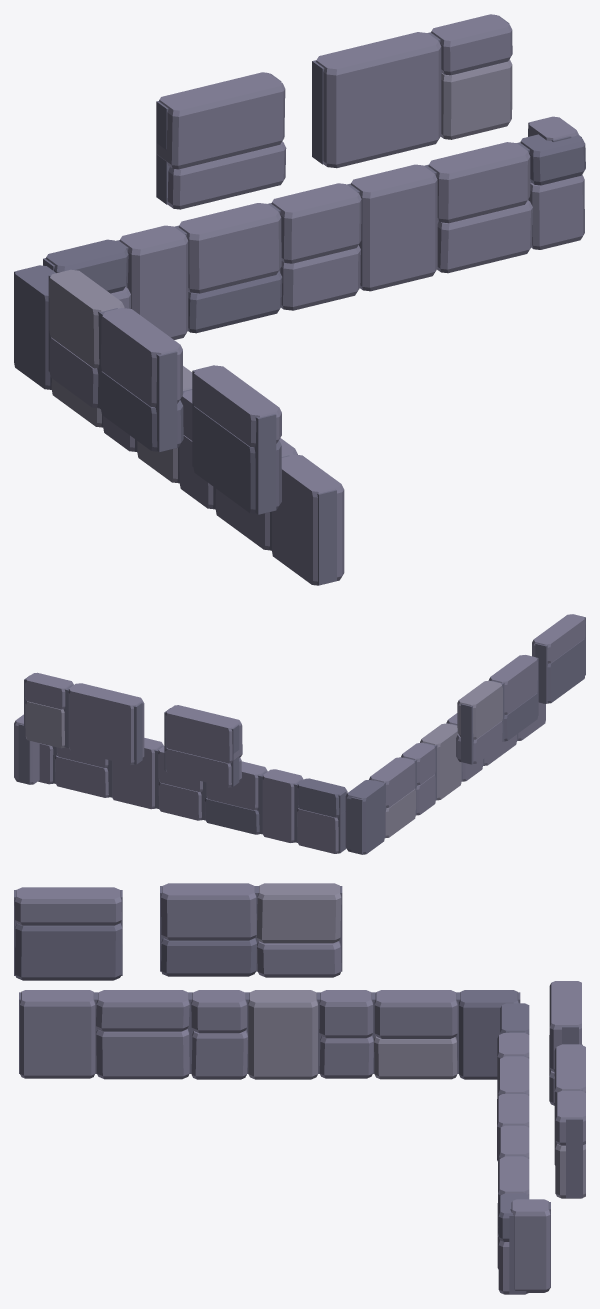
File: waterfall_cliffs_fitted.glb
The picture shows the model from 3 angles, top to bottom: view 1: azimuth 30°, elevation 25°; view 2: azimuth 150°, elevation 25°; view 3: azimuth 270°, elevation 25°; orthographic projection. The views are drawn at different scales.
Visible parts, largest first — view 1: cliff_blocky_NorthLower, cliff_blocky_NorthUpperEast, cliff_blocky_WestLower, cliff_blocky_WestUpperNorth, cliff_blocky_NorthUpperWest, cliff_blocky_WestUpperSouth, cliff_blocky_NorthEndReturn; view 2: cliff_blocky_NorthLower, cliff_blocky_WestLower, cliff_blocky_NorthUpperEast, cliff_blocky_WestUpperNorth, cliff_blocky_NorthUpperWest, cliff_blocky_WestUpperSouth, cliff_blocky_NorthEndReturn; view 3: cliff_blocky_WestLower, cliff_blocky_WestUpperNorth, cliff_blocky_WestUpperSouth, cliff_blocky_NorthLower, cliff_blocky_NorthUpperEast, cliff_blocky_NorthEndReturn, cliff_blocky_NorthUpperWest.
Boxes of the visible parts, bbox=[...] form: cliff_blocky_NorthLower: bbox=[43, 134, 585, 339]; cliff_blocky_NorthUpperEast: bbox=[312, 14, 512, 168]; cliff_blocky_WestLower: bbox=[14, 265, 344, 585]; cliff_blocky_WestUpperNorth: bbox=[48, 269, 183, 451]; cliff_blocky_NorthUpperWest: bbox=[156, 72, 286, 209]; cliff_blocky_WestUpperSouth: bbox=[192, 365, 281, 514]; cliff_blocky_NorthEndReturn: bbox=[528, 116, 578, 142]; cliff_blocky_NorthLower: bbox=[38, 738, 347, 853]; cliff_blocky_WestLower: bbox=[345, 702, 545, 854]; cliff_blocky_NorthUpperEast: bbox=[24, 672, 144, 765]; cliff_blocky_WestUpperNorth: bbox=[456, 655, 538, 764]; cliff_blocky_NorthUpperWest: bbox=[164, 705, 242, 787]; cliff_blocky_WestUpperSouth: bbox=[532, 614, 585, 703]; cliff_blocky_NorthEndReturn: bbox=[14, 714, 39, 784]; cliff_blocky_WestLower: bbox=[19, 990, 520, 1079]; cliff_blocky_WestUpperNorth: bbox=[160, 883, 342, 977]; cliff_blocky_WestUpperSouth: bbox=[14, 887, 122, 980]; cliff_blocky_NorthLower: bbox=[497, 1003, 529, 1294]; cliff_blocky_NorthUpperEast: bbox=[554, 1044, 585, 1198]; cliff_blocky_NorthEndReturn: bbox=[510, 1199, 550, 1292]; cliff_blocky_NorthUpperWest: bbox=[549, 981, 581, 1105].
Bounding box in the file's own units: 17.04 × 5.02 × 16.07.
